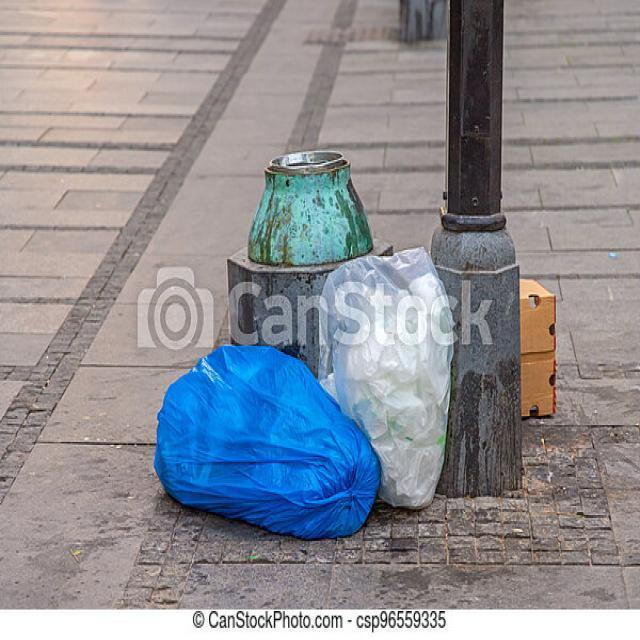Garbage_Bag: (147, 341, 382, 544), (310, 242, 449, 509)
